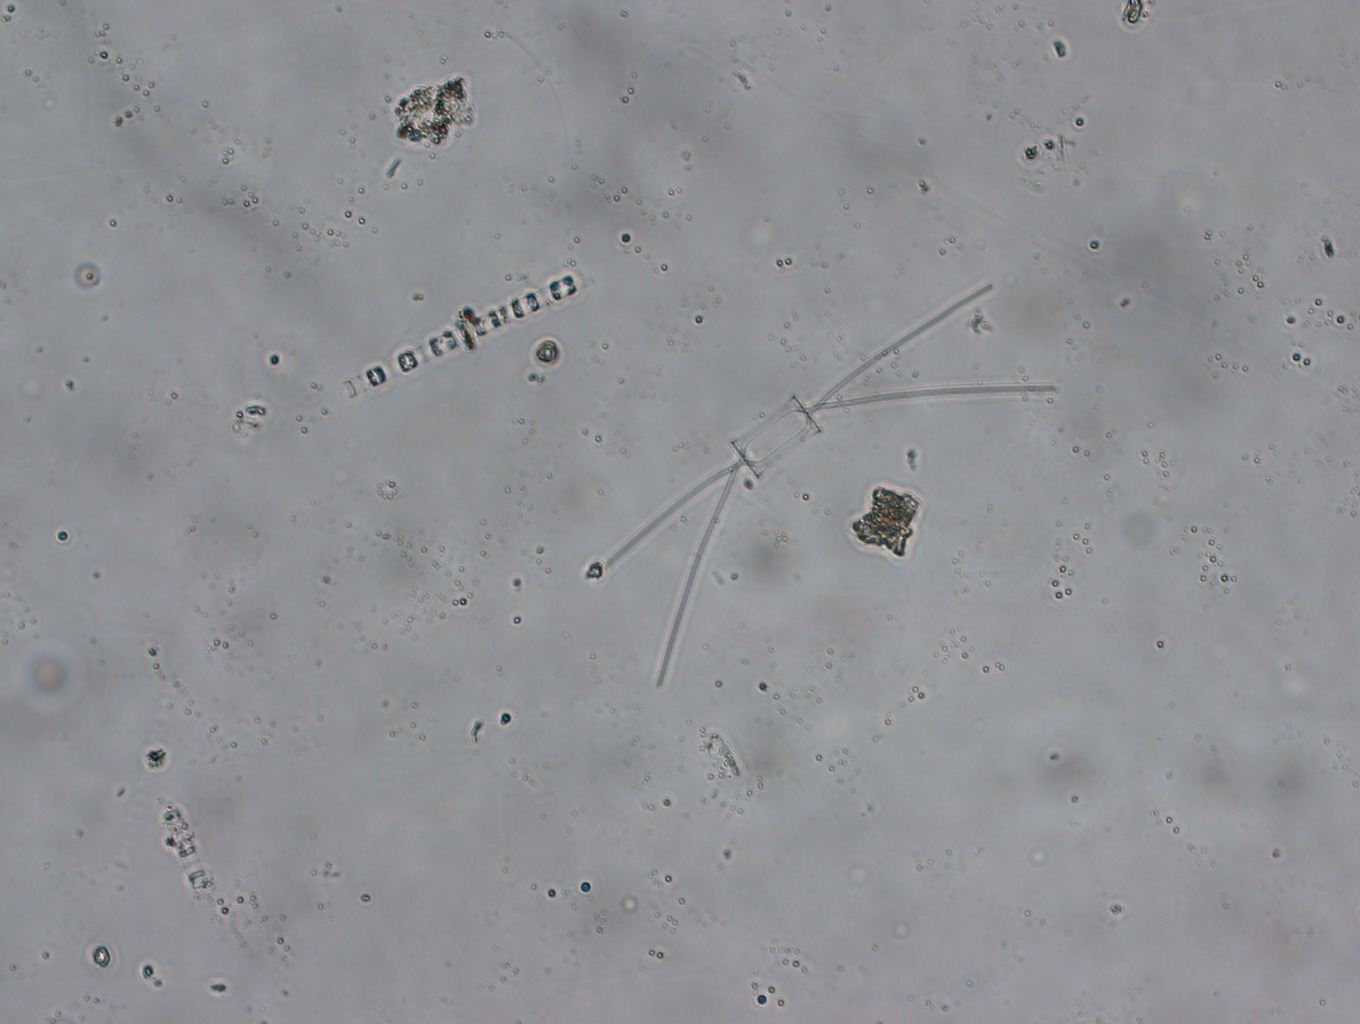chaetoceros: (607, 282, 1058, 687)
skeletonema: (340, 274, 583, 400)
